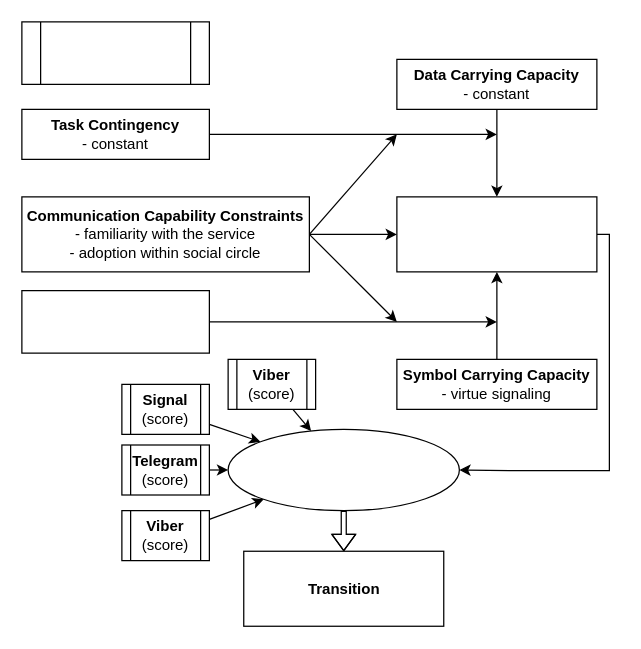
The diagram is 641 pixels wide and 649 high, and some of its shapes have lost their labels. The shapes that lost their labels are listed below. From the top down, each one's centre as x and y in pixels, then its label:
point (115, 52): WhatsApp
point (496, 234): Media choice & utilization (score)
point (115, 321): Normative Contingency - privacy concerns - marketing campaign
point (343, 469): Comparison to other possible channels / platforms
